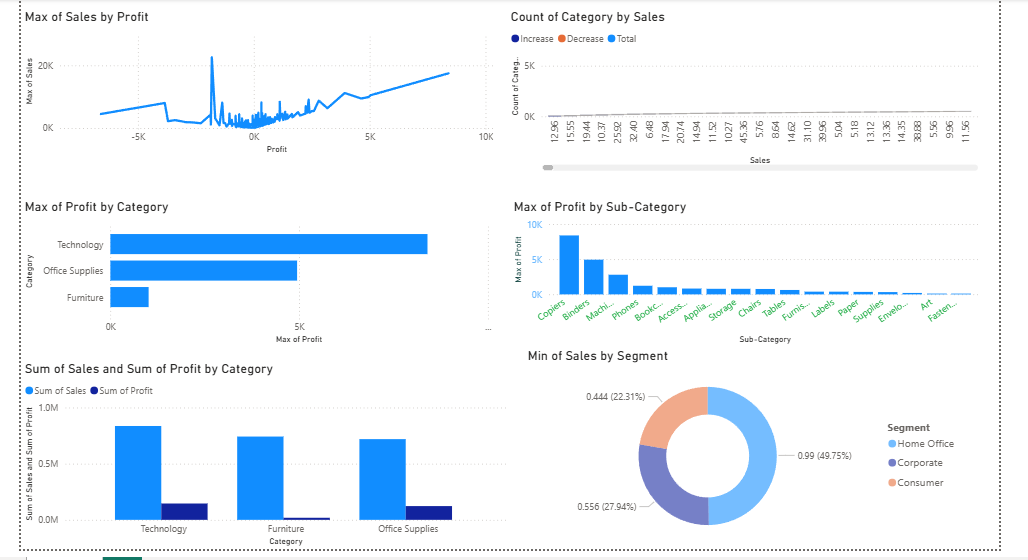

This screenshot's page, from the dashboard's own definition file:
{"tool":"powerbi","page":{"name":"Page 1","canvas":[1280,720],"ordinal":0},"visuals":[{"type":"lineChart","fields":{"Y":["Max(Sample - Superstore.Sales)"],"Category":["Sample - Superstore.Profit"]},"box":[0,13.4,623.2,194.9],"z":0},{"type":"clusteredBarChart","fields":{"Y":["Max(Sample - Superstore.Profit)"],"Category":["Sample - Superstore.Category"]},"box":[0,262,623.2,194.9],"z":1000},{"type":"lineClusteredColumnComboChart","fields":{"Category":["Sample - Superstore.Category"],"Y":["Sum(Sample - Superstore.Sales)","Sum(Sample - Superstore.Profit)"]},"box":[0,473.7,640,246.9],"z":2000},{"type":"waterfallChart","fields":{"Category":["Sample - Superstore.Sales"],"Y":["CountNonNull(Sample - Superstore.Category)"]},"box":[636.6,13.4,621.5,216.7],"z":3000},{"type":"lineClusteredColumnComboChart","fields":{"Y":["Max(Sample - Superstore.Profit)"],"Category":["Sample - Superstore.Sub-Category"]},"box":[640,262,621.5,194.9],"z":4000},{"type":"donutChart","fields":{"Y":["Min(Sample - Superstore.Sales)"],"Category":["Sample - Superstore.Segment"]},"box":[658.5,456.9,577.8,263.7],"z":5000}]}

Visuals, with their boxes on the page's 1280x720 design canvas (x1, y1, x2, y2). These are canvas units, not pixel positions in the 1028x560 screenshot, which may show the page scaled, cropped or inside an application window:
lineChart - Max(Sample - Superstore.Sales) x Sample - Superstore.Profit: [0,13,623,208]
clusteredBarChart - Max(Sample - Superstore.Profit) x Sample - Superstore.Category: [0,262,623,457]
lineClusteredColumnComboChart - Sample - Superstore.Category x Sum(Sample - Superstore.Sales): [0,474,640,721]
waterfallChart - Sample - Superstore.Sales x CountNonNull(Sample - Superstore.Category): [637,13,1258,230]
lineClusteredColumnComboChart - Max(Sample - Superstore.Profit) x Sample - Superstore.Sub-Category: [640,262,1262,457]
donutChart - Min(Sample - Superstore.Sales) x Sample - Superstore.Segment: [658,457,1236,721]
